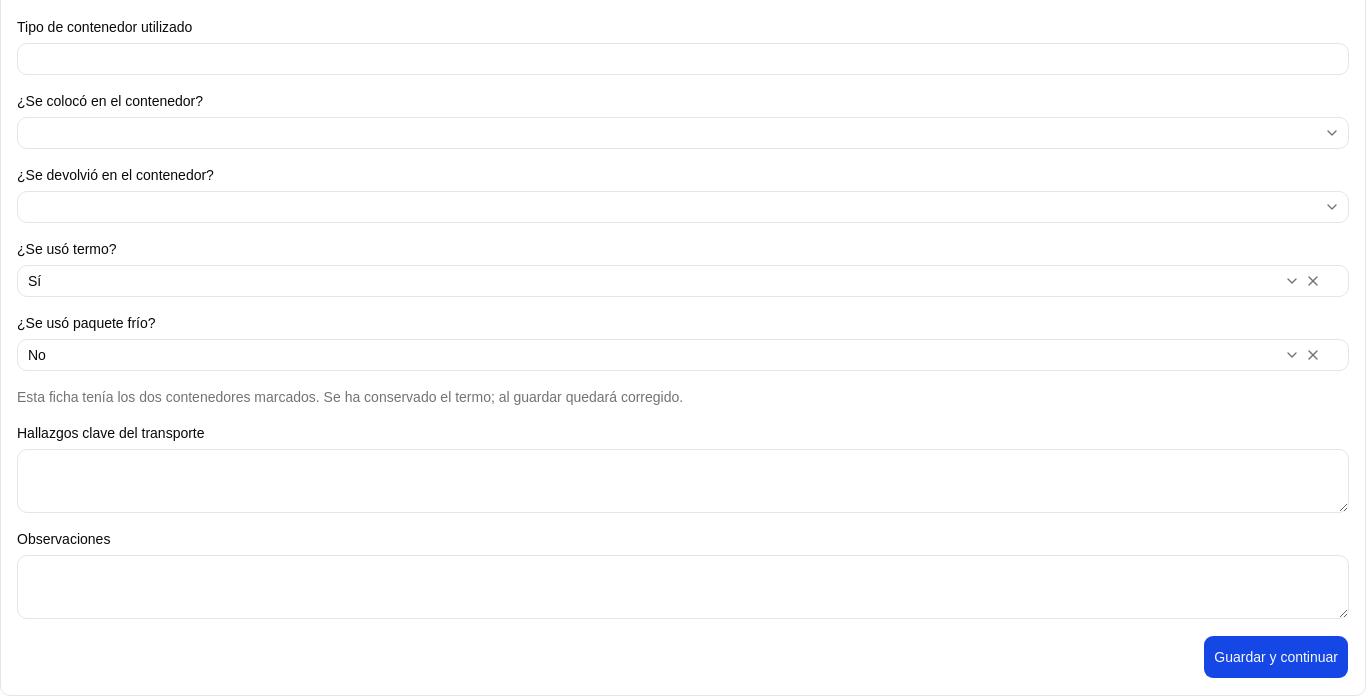
Test: ColdChainSection — guardado (SPEC FE13d §4 paso 9) › el aviso del empate no bloquea el guardado
(page scrolled)
Expected: the message is shown, [17,389,683,405]
Click the button "Guardar y continuar" at coordinates (1276, 657), box [1203,635,1349,679]
(page scrolled)
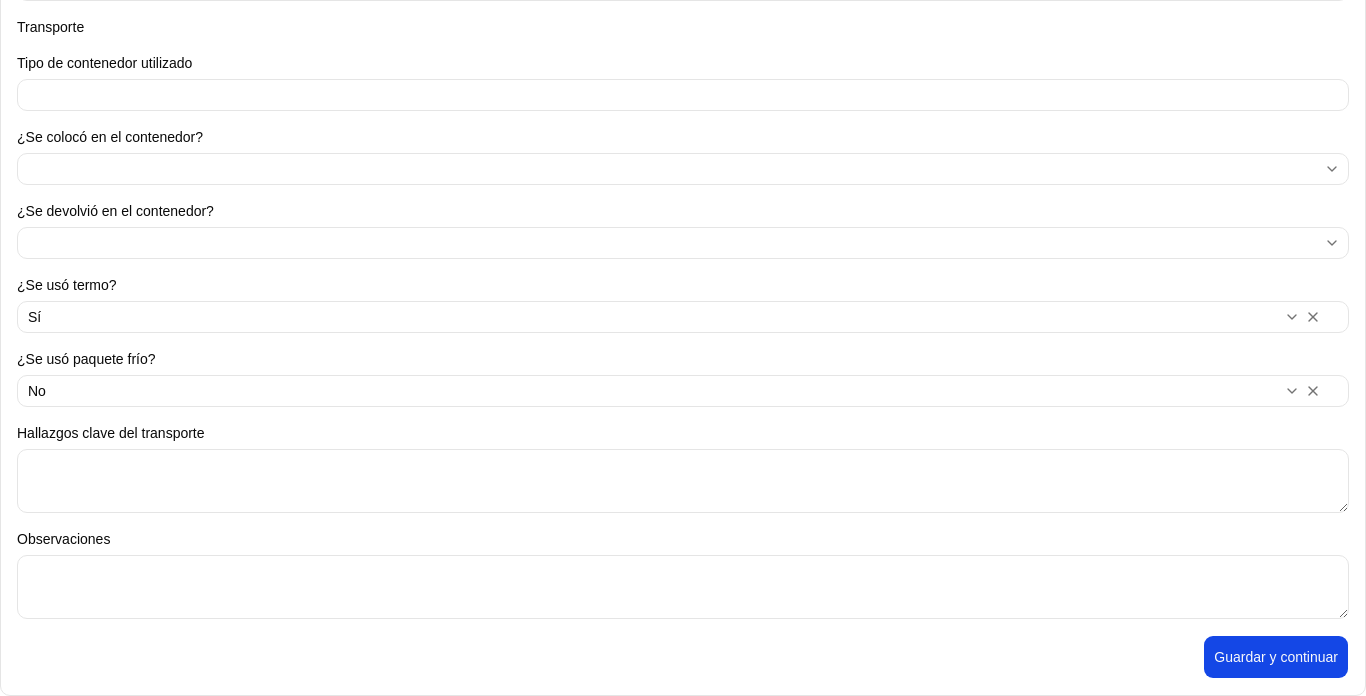
Expected: the message is gone
